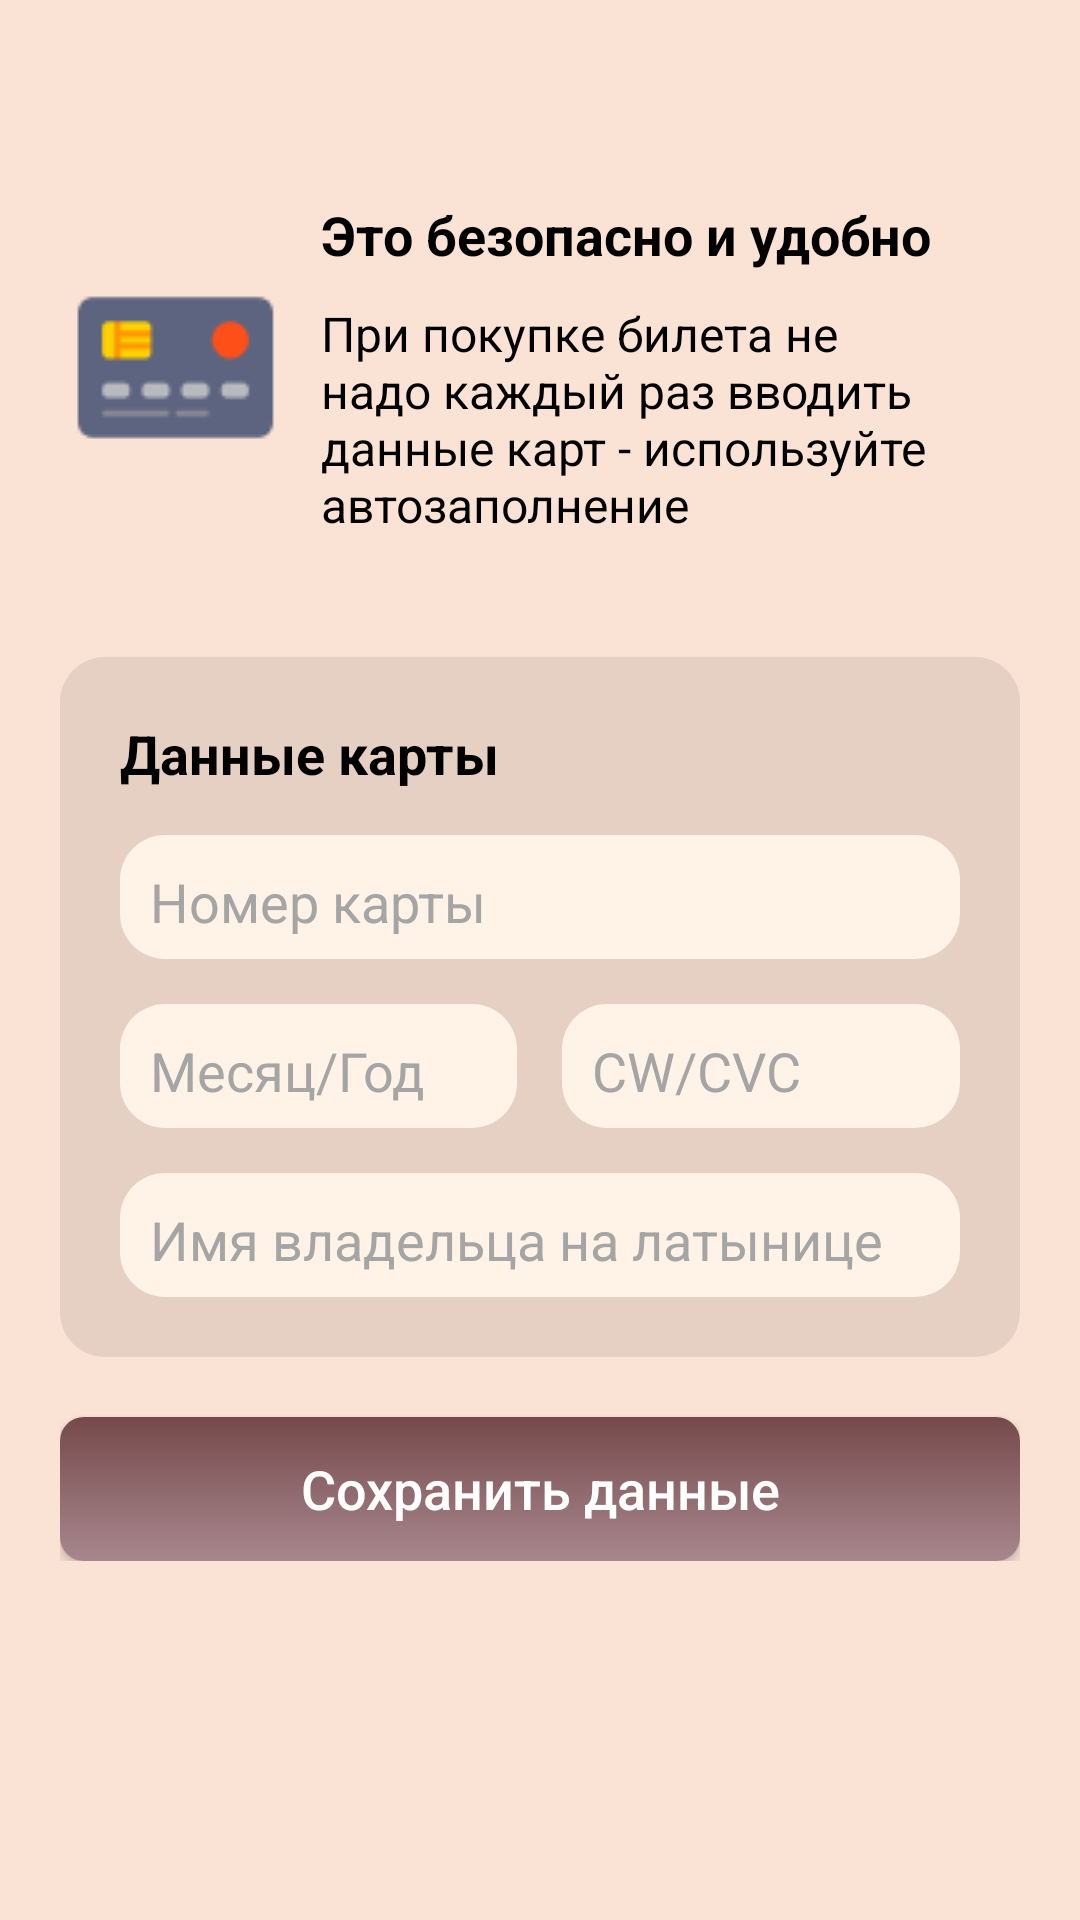

Icons on this 1080px x 1920px Android screen, each with its box as (x1, y1, x2, y2):
cardview: (77, 296, 274, 439)
